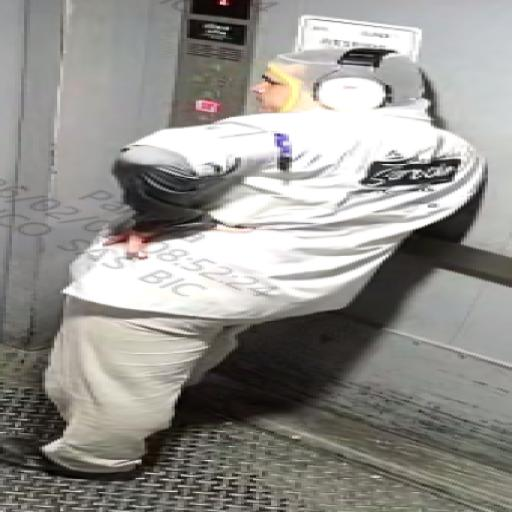persona: (53, 9, 512, 470)
